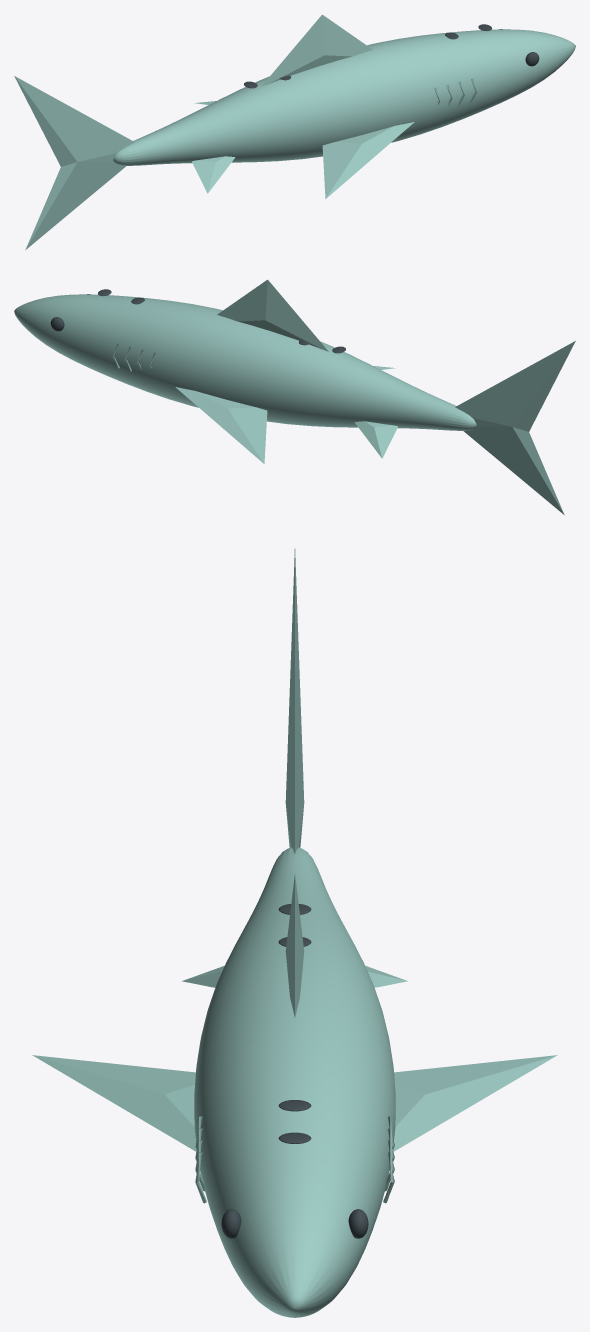
The picture shows the model from 3 angles, top to bottom: view 1: azimuth 30°, elevation 25°; view 2: azimuth 150°, elevation 25°; view 3: azimuth 270°, elevation 25°; orthographic projection. The views are drawn at different scales.
Visible parts, largest first — view 1: Body, Tail, Dorsal, Pectoral, Pelvic; view 2: Body, Tail, Dorsal, Pectoral.001, Pelvic.001; view 3: Body, Pectoral.001, Pectoral, Tail, Dorsal.
Boxes of the visible parts, bbox=[...] form: Body: bbox=[113, 29, 575, 165]; Tail: bbox=[14, 76, 134, 249]; Dorsal: bbox=[261, 14, 372, 86]; Pectoral: bbox=[322, 122, 414, 198]; Pelvic: bbox=[192, 156, 235, 193]; Body: bbox=[14, 294, 476, 430]; Tail: bbox=[455, 341, 575, 514]; Dorsal: bbox=[217, 279, 328, 351]; Pectoral.001: bbox=[175, 387, 267, 463]; Pelvic.001: bbox=[354, 421, 397, 458]; Body: bbox=[194, 847, 395, 1317]; Pectoral.001: bbox=[393, 1055, 557, 1151]; Pectoral: bbox=[32, 1055, 196, 1151]; Tail: bbox=[285, 549, 304, 853]; Dorsal: bbox=[285, 874, 304, 1017].
Size of the model in its own units: 252 by 76 by 102.
